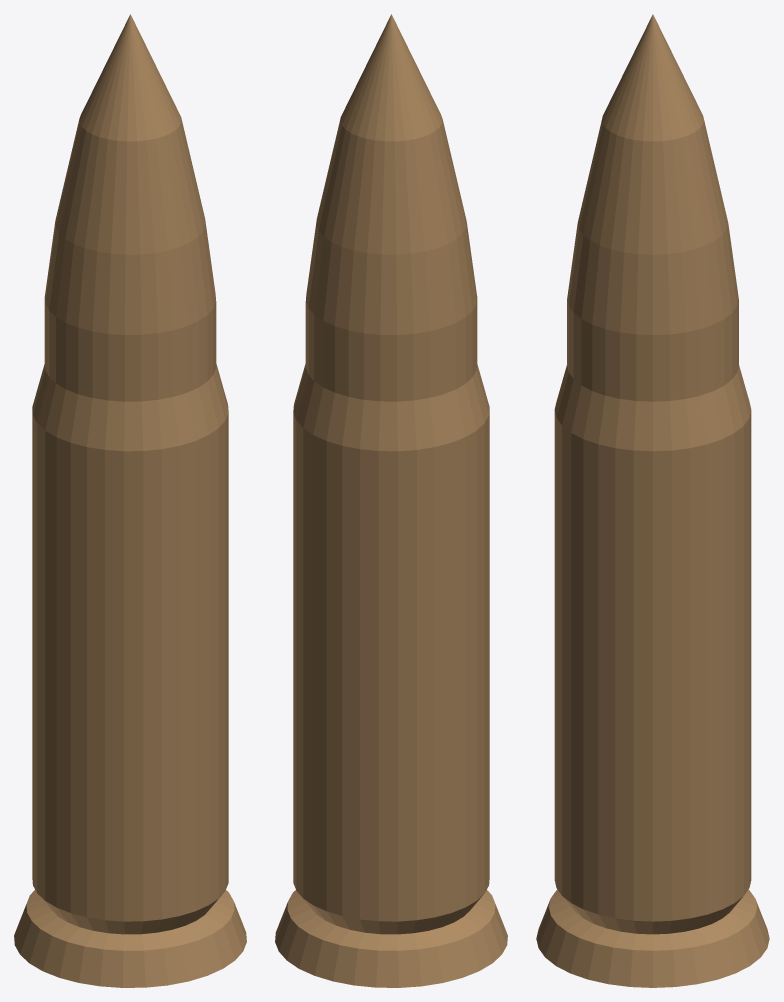
Rendered from Bullet.fbx.
The picture shows the model from 3 angles, left to right: view 1: azimuth 30°, elevation 25°; view 2: azimuth 150°, elevation 25°; view 3: azimuth 270°, elevation 25°; orthographic projection.
Visible parts, largest first — view 1: Circle; view 2: Circle; view 3: Circle.
Boxes of the visible parts, x1=… form: Circle: x1=14, y1=14, x2=246, y2=987; Circle: x1=275, y1=14, x2=507, y2=987; Circle: x1=536, y1=14, x2=769, y2=987.
Size of the model in its own units: 22.21 by 97.08 by 22.21.
